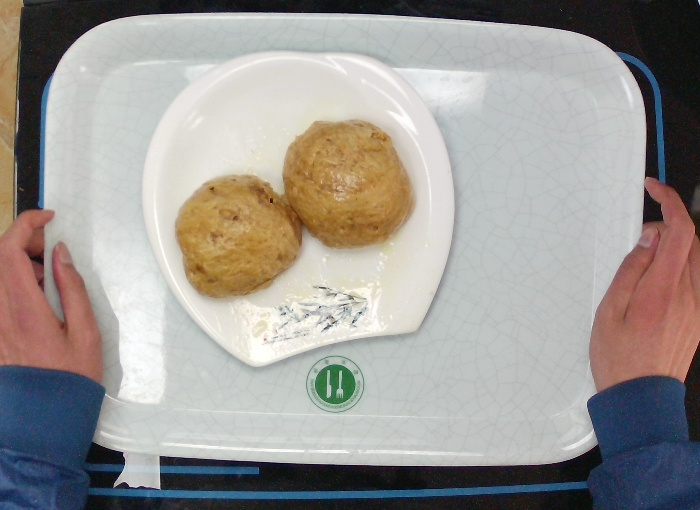JYsf-Mian_Pan: (136, 45, 459, 370)
